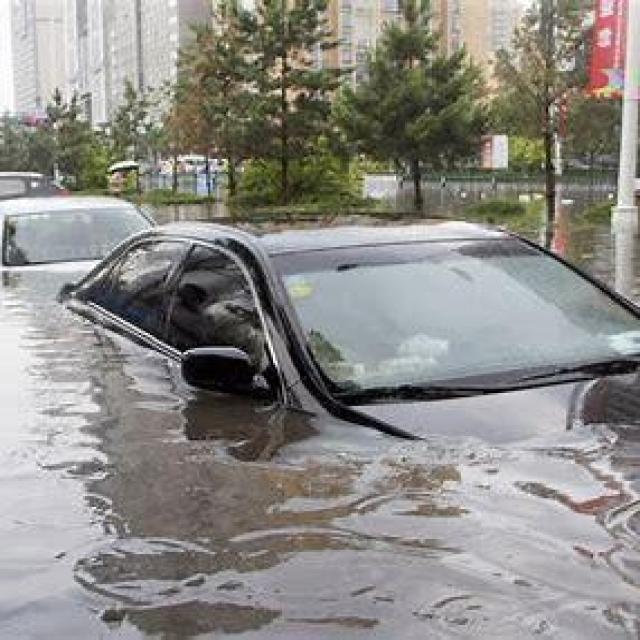water: (2, 276, 638, 636), (509, 221, 639, 305), (144, 200, 234, 221)
